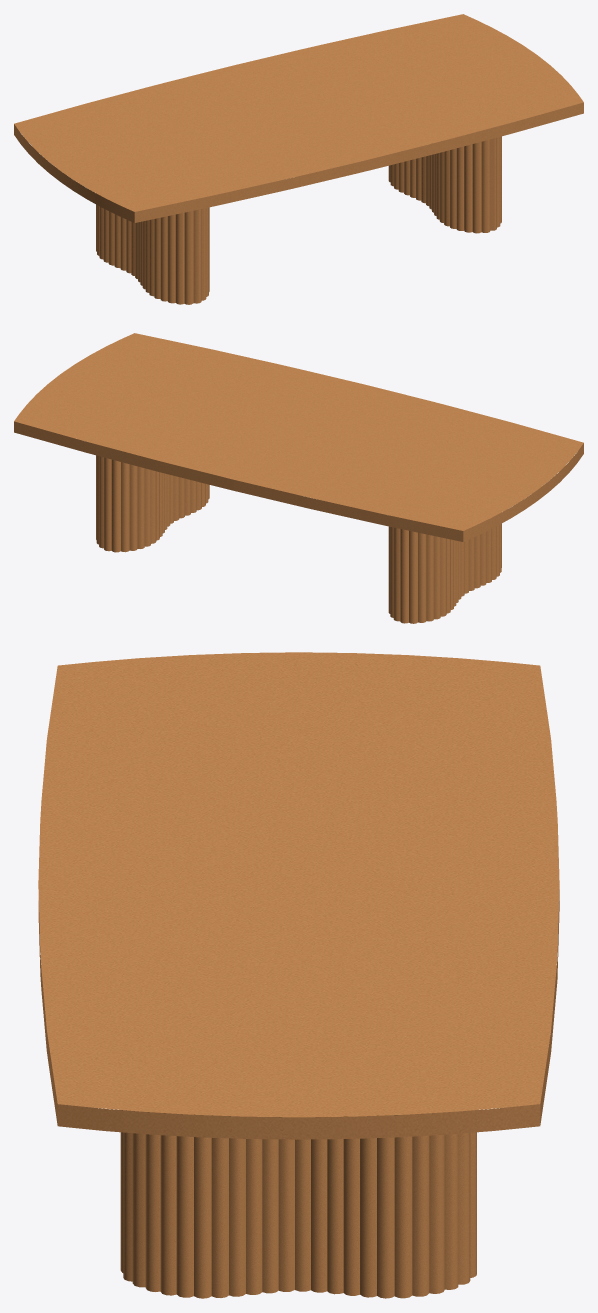
Rendered from Isometric.glb.
3 renders of one model, top to bottom at view 1: azimuth 30°, elevation 25°; view 2: azimuth 150°, elevation 25°; view 3: azimuth 270°, elevation 25°, orthographic. The views are drawn at different scales.
Visible parts, largest first — view 1: Retopo_Center Table.003, Retopo_Center Table.002, Retopo_Center Table.001; view 2: Retopo_Center Table.003, Retopo_Center Table.002, Retopo_Center Table.001; view 3: Retopo_Center Table.003, Retopo_Center Table.001.
Part boxes in pixels (left/top/right/bottom): Retopo_Center Table.003: left=14, top=14, right=583, bottom=222; Retopo_Center Table.002: left=96, top=194, right=209, bottom=304; Retopo_Center Table.001: left=388, top=136, right=501, bottom=233; Retopo_Center Table.003: left=14, top=333, right=583, bottom=541; Retopo_Center Table.002: left=388, top=513, right=501, bottom=623; Retopo_Center Table.001: left=96, top=455, right=209, bottom=552; Retopo_Center Table.003: left=38, top=652, right=559, bottom=1139; Retopo_Center Table.001: left=120, top=1110, right=476, bottom=1298.
Bounding box in the file's own units: 2.28 × 0.5598 × 1.08.
Materials: 1 (1 with a texture image).
